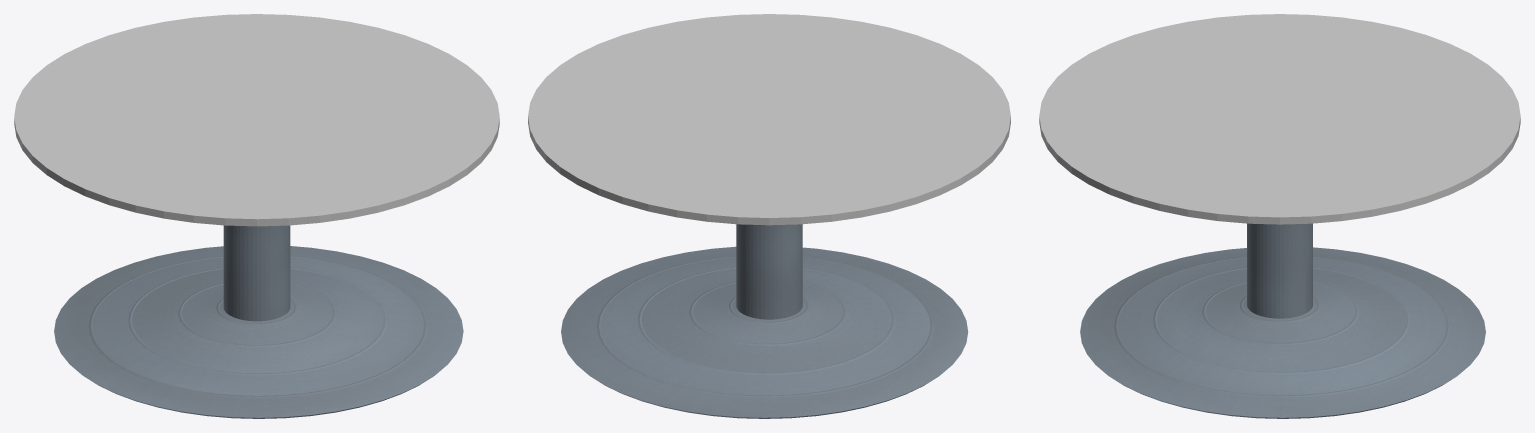
The model's file is tisch_rund.fbx.
3 renders of one model, left to right at view 1: azimuth 30°, elevation 25°; view 2: azimuth 150°, elevation 25°; view 3: azimuth 270°, elevation 25°, orthographic.
Parts seen in each view (by area): view 1: Cylinder; view 2: Cylinder; view 3: Cylinder.
Part boxes in pixels (left/top/right/bottom): Cylinder: left=14, top=14, right=499, bottom=418; Cylinder: left=528, top=14, right=1010, bottom=418; Cylinder: left=1039, top=14, right=1520, bottom=418.
Size of the model in its own units: 240 by 119 by 240.
